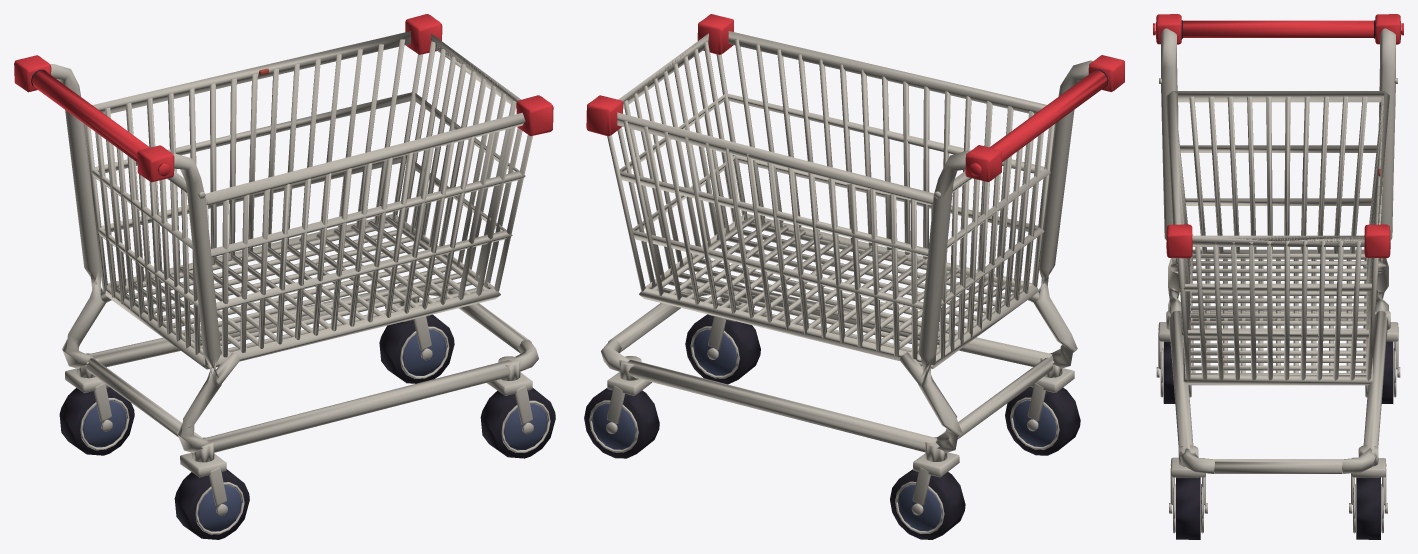
The picture shows the model from 3 angles, left to right: view 1: azimuth 30°, elevation 25°; view 2: azimuth 150°, elevation 25°; view 3: azimuth 270°, elevation 25°; orthographic projection. The views are drawn at different scales.
Parts seen in each view (by area): view 1: body, object 4, wheelFR, wheelFL; view 2: body, object 4, wheelFL, wheelFR; view 3: body, object 4, wheelFL, wheelFR.
Part boxes in pixels (x1=…): body: x1=50, y1=31, x2=538, y2=453; object 4: x1=14, y1=14, x2=553, y2=539; wheelFR: x1=480, y1=388, x2=555, y2=458; wheelFL: x1=379, y1=314, x2=454, y2=383; body: x1=601, y1=31, x2=1092, y2=452; object 4: x1=586, y1=14, x2=1124, y2=539; wheelFL: x1=584, y1=388, x2=659, y2=458; wheelFR: x1=685, y1=314, x2=760, y2=384; body: x1=1159, y1=28, x2=1397, y2=473; object 4: x1=1153, y1=14, x2=1403, y2=504; wheelFL: x1=1349, y1=477, x2=1387, y2=539; wheelFR: x1=1169, y1=477, x2=1207, y2=539.
Size of the model in its own units: 1.21 by 1.11 by 0.71.
